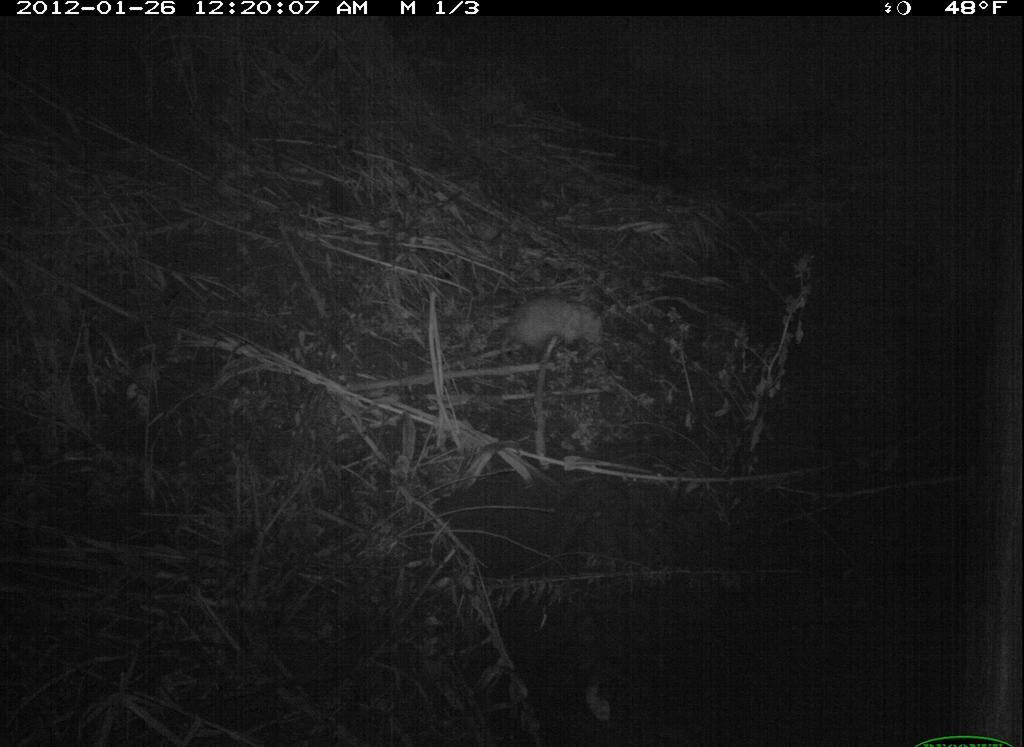opossum: (461, 289, 611, 360)
